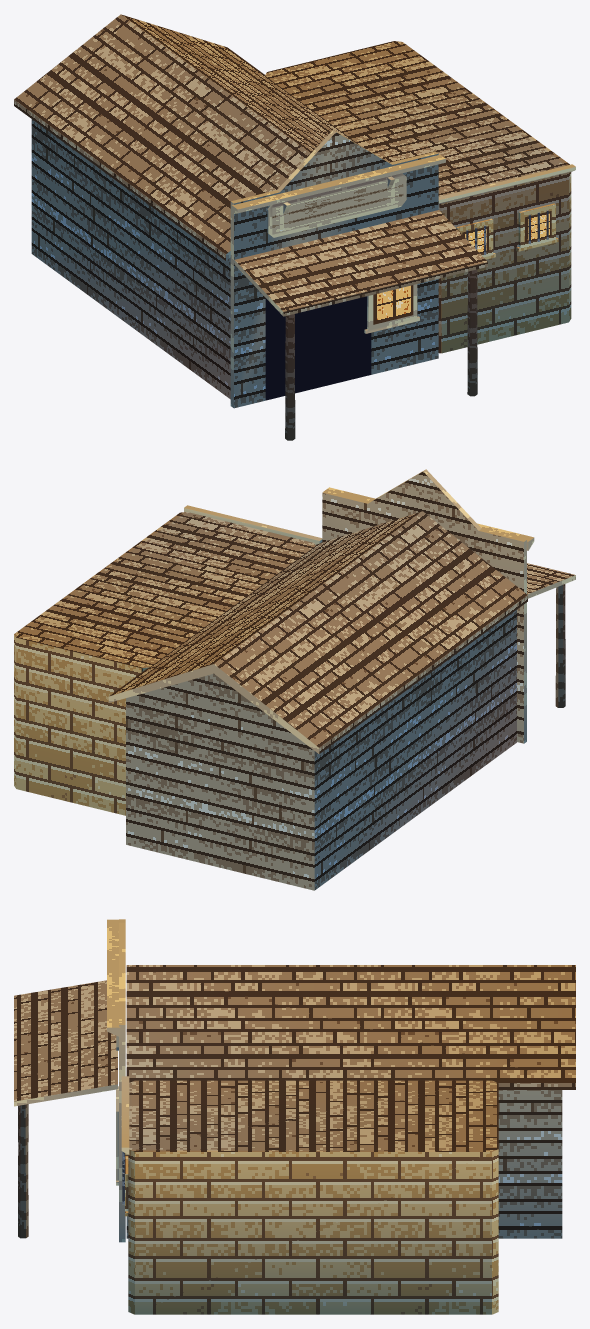
File: wtown.sheriff__entry.glb
The picture shows the model from 3 angles, top to bottom: view 1: azimuth 30°, elevation 25°; view 2: azimuth 150°, elevation 25°; view 3: azimuth 270°, elevation 25°; orthographic projection. The views are drawn at different scales.
Parts seen in each view (by area): view 1: kit_roof, kit_jail, kit_body, kit_porch, kit_front, kit_card_panes, kit_trim, kit_windows; view 2: kit_body, kit_roof, kit_jail, kit_front, kit_porch, kit_trim; view 3: kit_jail, kit_roof, kit_porch, kit_body, kit_front, kit_trim, kit_windows.
Boxes of the visible parts, x1=… form: kit_roof: x1=14, y1=14, x2=439, y2=260; kit_jail: x1=265, y1=41, x2=575, y2=353; kit_body: x1=31, y1=119, x2=230, y2=399; kit_porch: x1=234, y1=210, x2=487, y2=440; kit_front: x1=230, y1=130, x2=438, y2=408; kit_card_panes: x1=265, y1=176, x2=551, y2=400; kit_trim: x1=231, y1=154, x2=445, y2=237; kit_windows: x1=364, y1=203, x2=558, y2=333; kit_body: x1=126, y1=610, x2=516, y2=890; kit_roof: x1=108, y1=511, x2=527, y2=753; kit_jail: x1=14, y1=505, x2=322, y2=815; kit_front: x1=322, y1=469, x2=526, y2=743; kit_porch: x1=527, y1=563, x2=575, y2=707; kit_trim: x1=323, y1=487, x2=534, y2=550; kit_jail: x1=121, y1=1076, x2=498, y2=1314; kit_roof: x1=126, y1=965, x2=575, y2=1089; kit_porch: x1=14, y1=980, x2=117, y2=1238; kit_body: x1=126, y1=1090, x2=562, y2=1238; kit_front: x1=119, y1=919, x2=125, y2=1242; kit_trim: x1=107, y1=919, x2=120, y2=1050; kit_windows: x1=116, y1=1086, x2=128, y2=1216.
Size of the model in its own units: 7.85 by 5.4 by 10.32.
Materials: 9 (9 with a texture image).
